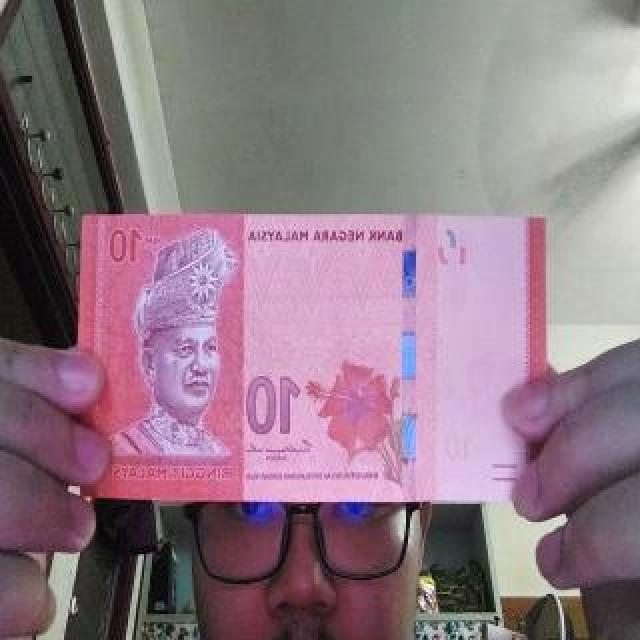10 Ringgit: (74, 218, 552, 510)
